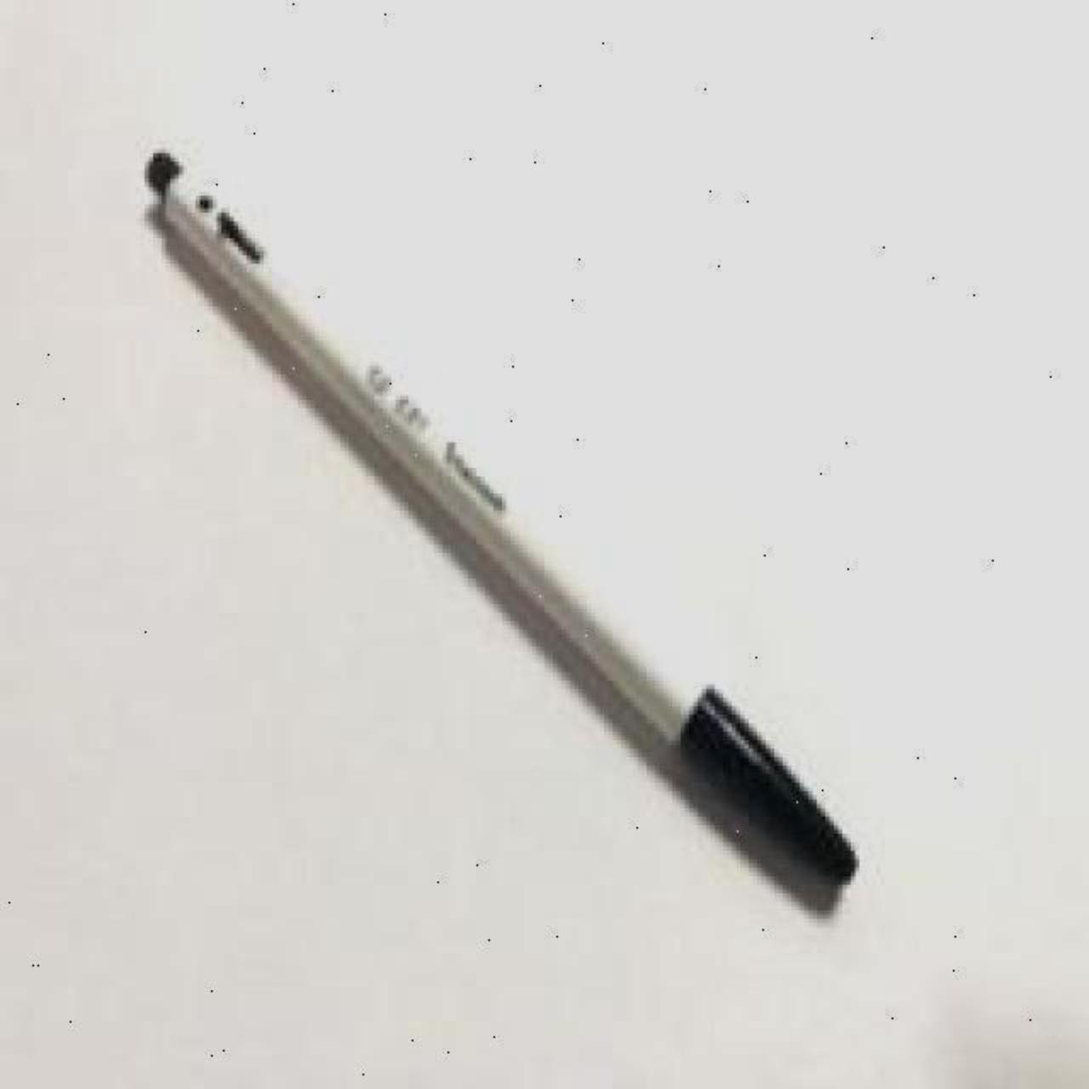pen: (140, 145, 863, 902)
